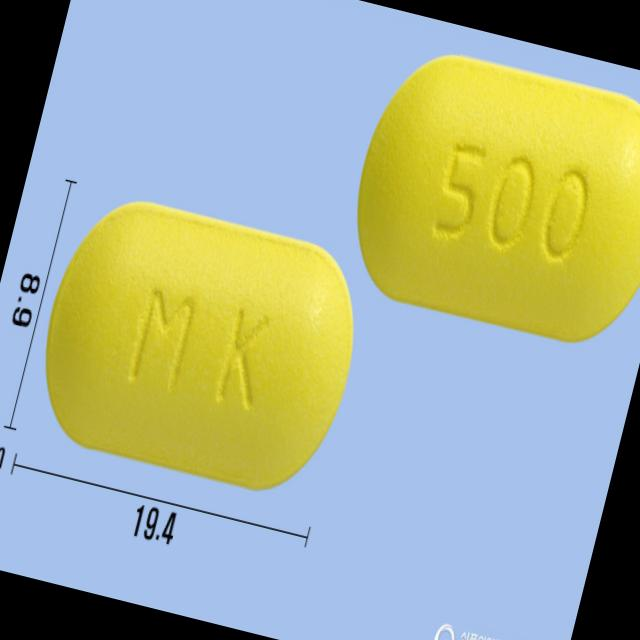Craycin: (21, 182, 378, 504), (335, 38, 640, 356)
